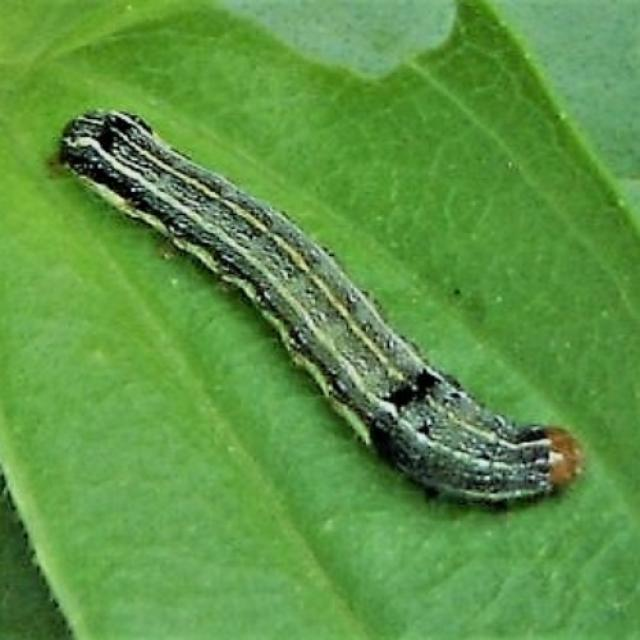armyworm: (56, 105, 584, 508)
